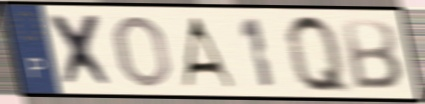1: (239, 16, 279, 90)
A: (178, 14, 238, 90)
B: (340, 17, 406, 92)
O: (113, 13, 175, 90)
Q: (283, 11, 356, 97)
X: (46, 11, 119, 90)
